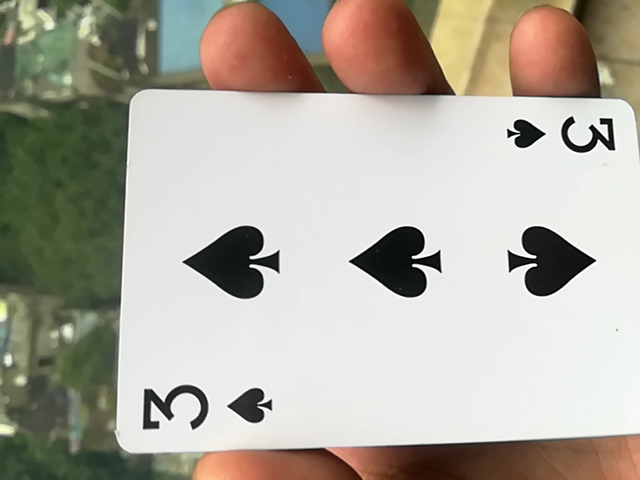ht 3: (101, 105, 636, 473)
